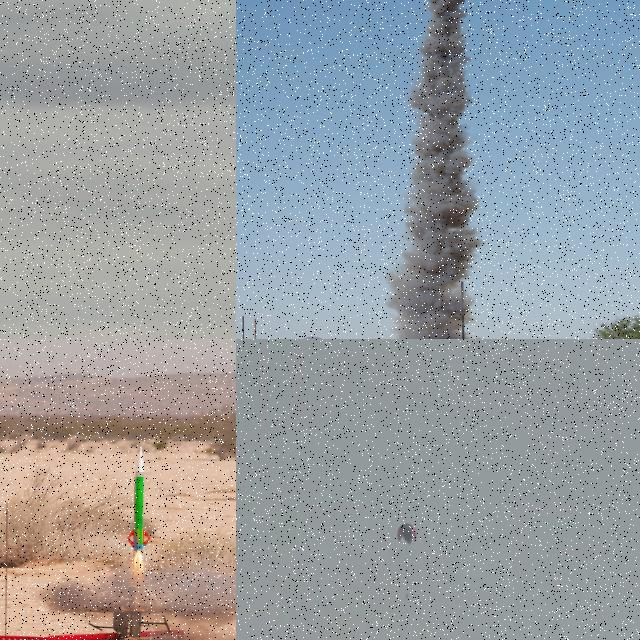Rocket: (126, 446, 150, 552), (406, 591, 409, 599)
